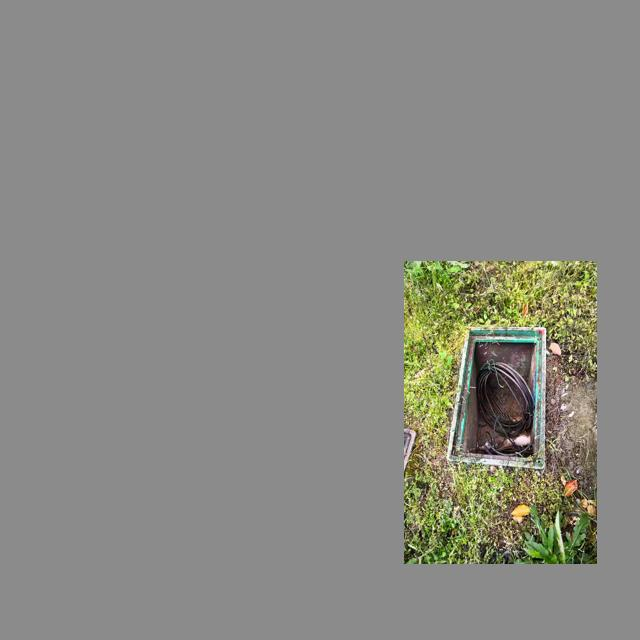lose: (447, 325, 548, 470)
